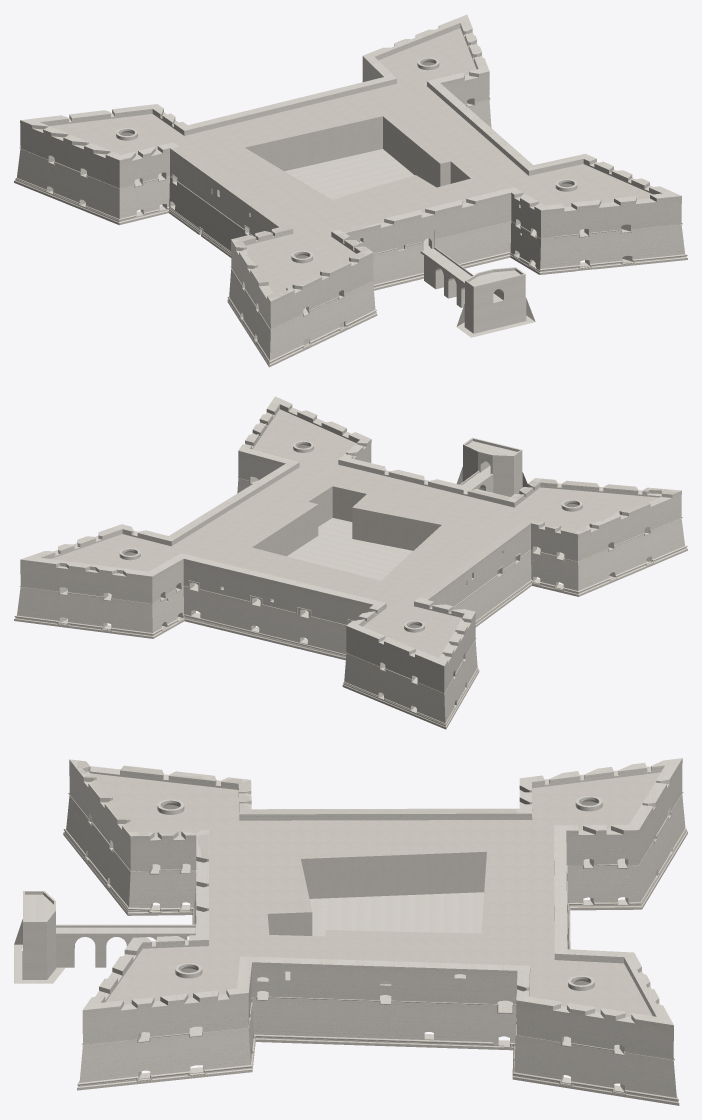
Rendered from castello.glb.
The picture shows the model from 3 angles, top to bottom: view 1: azimuth 30°, elevation 25°; view 2: azimuth 150°, elevation 25°; view 3: azimuth 270°, elevation 25°; orthographic projection. The views are drawn at different scales.
Size of the model in its own units: 288 by 39.3 by 302.
4 materials, 2 textured.
